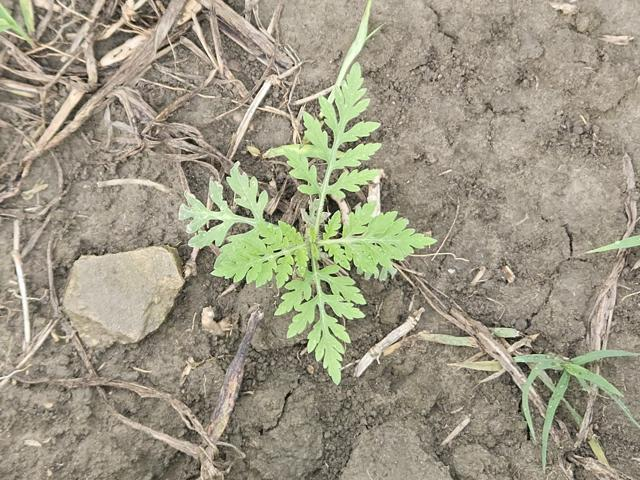bad weed: (179, 65, 424, 383), (453, 301, 622, 434), (0, 0, 70, 50)
